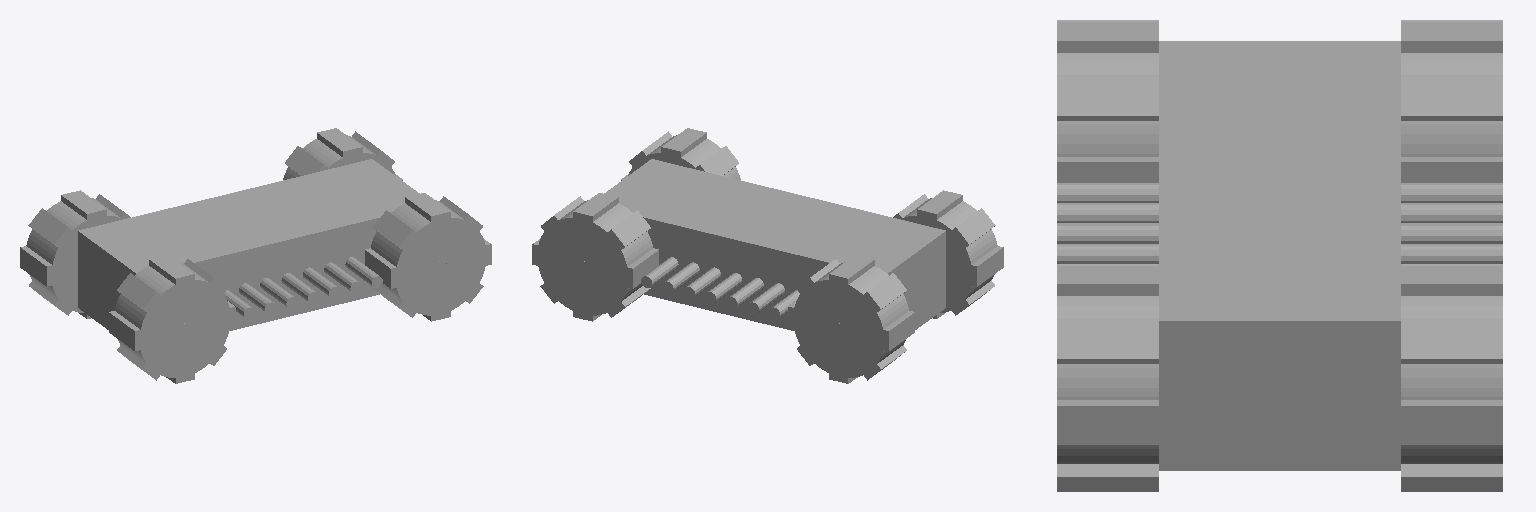
URDF robot description (prismatic_experiment):
<?xml version="1.0" ?>
<!-- =================================================================================== -->
<!-- |    This document was autogenerated by xacro from prismatic_experiment.xacro     | -->
<!-- |    EDITING THIS FILE BY HAND IS NOT RECOMMENDED                                 | -->
<!-- =================================================================================== -->
<robot name="prismatic_experiment">
  <material name="silver">
    <color rgba="0.700 0.700 0.700 1.000"/>
  </material>
  <transmission name="3_tran">
    <type>transmission_interface/SimpleTransmission</type>
    <joint name="3">
      <hardwareInterface>hardware_interface/EffortJointInterface</hardwareInterface>
    </joint>
    <actuator name="3_actr">
      <hardwareInterface>hardware_interface/EffortJointInterface</hardwareInterface>
      <mechanicalReduction>1</mechanicalReduction>
    </actuator>
  </transmission>
  <transmission name="6_tran">
    <type>transmission_interface/SimpleTransmission</type>
    <joint name="6">
      <hardwareInterface>hardware_interface/EffortJointInterface</hardwareInterface>
    </joint>
    <actuator name="6_actr">
      <hardwareInterface>hardware_interface/EffortJointInterface</hardwareInterface>
      <mechanicalReduction>1</mechanicalReduction>
    </actuator>
  </transmission>
  <transmission name="9_tran">
    <type>transmission_interface/SimpleTransmission</type>
    <joint name="9">
      <hardwareInterface>hardware_interface/EffortJointInterface</hardwareInterface>
    </joint>
    <actuator name="9_actr">
      <hardwareInterface>hardware_interface/EffortJointInterface</hardwareInterface>
      <mechanicalReduction>1</mechanicalReduction>
    </actuator>
  </transmission>
  <transmission name="12_tran">
    <type>transmission_interface/SimpleTransmission</type>
    <joint name="12">
      <hardwareInterface>hardware_interface/EffortJointInterface</hardwareInterface>
    </joint>
    <actuator name="12_actr">
      <hardwareInterface>hardware_interface/EffortJointInterface</hardwareInterface>
      <mechanicalReduction>1</mechanicalReduction>
    </actuator>
  </transmission>
  <gazebo>
    <plugin filename="libgazebo_ros_control.so" name="control"/>
  </gazebo>
  <gazebo reference="base_link">
    <material>Gazebo/Silver</material>
    <mu1>0.2</mu1>
    <mu2>0.2</mu2>
    <selfCollide>true</selfCollide>
    <gravity>true</gravity>
  </gazebo>
  <gazebo reference="gear_maint_1">
    <material>Gazebo/Silver</material>
    <mu1>0.2</mu1>
    <mu2>0.2</mu2>
    <selfCollide>true</selfCollide>
  </gazebo>
  <gazebo reference="gear_mainc_1">
    <material>Gazebo/Silver</material>
    <mu1>0.2</mu1>
    <mu2>0.2</mu2>
    <selfCollide>true</selfCollide>
  </gazebo>
  <gazebo reference="gear_circle_1">
    <material>Gazebo/Silver</material>
    <mu1>0.2</mu1>
    <mu2>0.2</mu2>
    <selfCollide>true</selfCollide>
  </gazebo>
  <gazebo reference="gear_mainc_2">
    <material>Gazebo/Silver</material>
    <mu1>0.2</mu1>
    <mu2>0.2</mu2>
    <selfCollide>true</selfCollide>
  </gazebo>
  <gazebo reference="gear_maint_2">
    <material>Gazebo/Silver</material>
    <mu1>0.2</mu1>
    <mu2>0.2</mu2>
    <selfCollide>true</selfCollide>
  </gazebo>
  <gazebo reference="gear_circle_2">
    <material>Gazebo/Silver</material>
    <mu1>0.2</mu1>
    <mu2>0.2</mu2>
    <selfCollide>true</selfCollide>
  </gazebo>
  <gazebo reference="gear_mainc_3">
    <material>Gazebo/Silver</material>
    <mu1>0.2</mu1>
    <mu2>0.2</mu2>
    <selfCollide>true</selfCollide>
  </gazebo>
  <gazebo reference="gear_maint_3">
    <material>Gazebo/Silver</material>
    <mu1>0.2</mu1>
    <mu2>0.2</mu2>
    <selfCollide>true</selfCollide>
  </gazebo>
  <gazebo reference="gear_circle_3">
    <material>Gazebo/Silver</material>
    <mu1>0.2</mu1>
    <mu2>0.2</mu2>
    <selfCollide>true</selfCollide>
  </gazebo>
  <gazebo reference="gear_mainc_4">
    <material>Gazebo/Silver</material>
    <mu1>0.2</mu1>
    <mu2>0.2</mu2>
    <selfCollide>true</selfCollide>
  </gazebo>
  <gazebo reference="gear_maint_4">
    <material>Gazebo/Silver</material>
    <mu1>0.2</mu1>
    <mu2>0.2</mu2>
    <selfCollide>true</selfCollide>
  </gazebo>
  <gazebo reference="gear_circle_4">
    <material>Gazebo/Silver</material>
    <mu1>0.2</mu1>
    <mu2>0.2</mu2>
    <selfCollide>true</selfCollide>
  </gazebo>
  <link name="base_link">
    <inertial>
      <origin rpy="0 0 0" xyz="0.2258879999999996 -4.3124927618332746e-17 -1.1859355095041503e-16"/>
      <mass value="13.497451271946687"/>
      <inertia ixx="0.069002" ixy="-0.0" ixz="-0.0" iyy="0.320506" iyz="-0.0" izz="0.353298"/>
    </inertial>
    <visual>
      <origin rpy="0 0 0" xyz="0 0 0"/>
      <geometry>
        <mesh filename="package://prismatic_experiment_description/meshes/base_link.stl" scale="0.001 0.001 0.001"/>
      </geometry>
      <material name="silver"/>
    </visual>
    <collision>
      <origin rpy="0 0 0" xyz="0 0 0"/>
      <geometry>
        <mesh filename="package://prismatic_experiment_description/meshes/base_link.stl" scale="0.001 0.001 0.001"/>
      </geometry>
    </collision>
  </link>
  <link name="gear_maint_1">
    <inertial>
      <origin rpy="0 0 0" xyz="6.137300737063533e-14 0.03999999999999998 -4.250930002814283e-17"/>
      <mass value="0.8558077419960403"/>
      <inertia ixx="0.001777" ixy="-0.0" ixz="-0.0" iyy="0.002641" iyz="-0.0" izz="0.001777"/>
    </inertial>
    <visual>
      <origin rpy="0 0 0" xyz="-0.0 0.175 -0.0"/>
      <geometry>
        <mesh filename="package://prismatic_experiment_description/meshes/gear_maint_1.stl" scale="0.001 0.001 0.001"/>
      </geometry>
      <material name="silver"/>
    </visual>
    <collision>
      <origin rpy="0 0 0" xyz="-0.0 0.175 -0.0"/>
      <geometry>
        <mesh filename="package://prismatic_experiment_description/meshes/gear_maint_1.stl" scale="0.001 0.001 0.001"/>
      </geometry>
    </collision>
  </link>
  <link name="gear_mainc_1">
    <inertial>
      <origin rpy="0 0 0" xyz="6.136239086296236e-14 0.03999999999999998 -1.0627325007035708e-17"/>
      <mass value="0.8558077419960404"/>
      <inertia ixx="0.001777" ixy="-0.0" ixz="0.0" iyy="0.002641" iyz="-0.0" izz="0.001777"/>
    </inertial>
    <visual>
      <origin rpy="0 0 0" xyz="-0.0 0.175 -0.0"/>
      <geometry>
        <mesh filename="package://prismatic_experiment_description/meshes/gear_mainc_1.stl" scale="0.001 0.001 0.001"/>
      </geometry>
      <material name="silver"/>
    </visual>
    <collision>
      <origin rpy="0 0 0" xyz="-0.0 0.175 -0.0"/>
      <geometry>
        <mesh filename="package://prismatic_experiment_description/meshes/gear_mainc_1.stl" scale="0.001 0.001 0.001"/>
      </geometry>
    </collision>
  </link>
  <link name="gear_circle_1">
    <inertial>
      <origin rpy="0 0 0" xyz="3.279642276972099e-14 0.03999999999999998 1.1349944714130247e-17"/>
      <mass value="1.60264164219345"/>
      <inertia ixx="0.00349" ixy="-0.0" ixz="0.0" iyy="0.00527" iyz="0.0" izz="0.00349"/>
    </inertial>
    <visual>
      <origin rpy="0 0 0" xyz="-0.0 0.175 -0.0"/>
      <geometry>
        <mesh filename="package://prismatic_experiment_description/meshes/gear_circle_1.stl" scale="0.001 0.001 0.001"/>
      </geometry>
      <material name="silver"/>
    </visual>
    <collision>
      <origin rpy="0 0 0" xyz="-0.0 0.175 -0.0"/>
      <geometry>
        <mesh filename="package://prismatic_experiment_description/meshes/gear_circle_1.stl" scale="0.001 0.001 0.001"/>
      </geometry>
    </collision>
  </link>
  <link name="gear_mainc_2">
    <inertial>
      <origin rpy="0 0 0" xyz="6.138260039145749e-14 -0.03999999999999998 1.0627325007035708e-17"/>
      <mass value="0.8558077419960404"/>
      <inertia ixx="0.001777" ixy="0.0" ixz="-0.0" iyy="0.002641" iyz="-0.0" izz="0.001777"/>
    </inertial>
    <visual>
      <origin rpy="0 0 0" xyz="-0.0 -0.175 -0.0"/>
      <geometry>
        <mesh filename="package://prismatic_experiment_description/meshes/gear_mainc_2.stl" scale="0.001 0.001 0.001"/>
      </geometry>
      <material name="silver"/>
    </visual>
    <collision>
      <origin rpy="0 0 0" xyz="-0.0 -0.175 -0.0"/>
      <geometry>
        <mesh filename="package://prismatic_experiment_description/meshes/gear_mainc_2.stl" scale="0.001 0.001 0.001"/>
      </geometry>
    </collision>
  </link>
  <link name="gear_maint_2">
    <inertial>
      <origin rpy="0 0 0" xyz="6.138433511493347e-14 -0.03999999999999998 4.250930002814283e-17"/>
      <mass value="0.8558077419960403"/>
      <inertia ixx="0.001777" ixy="0.0" ixz="0.0" iyy="0.002641" iyz="-0.0" izz="0.001777"/>
    </inertial>
    <visual>
      <origin rpy="0 0 0" xyz="-0.0 -0.175 -0.0"/>
      <geometry>
        <mesh filename="package://prismatic_experiment_description/meshes/gear_maint_2.stl" scale="0.001 0.001 0.001"/>
      </geometry>
      <material name="silver"/>
    </visual>
    <collision>
      <origin rpy="0 0 0" xyz="-0.0 -0.175 -0.0"/>
      <geometry>
        <mesh filename="package://prismatic_experiment_description/meshes/gear_maint_2.stl" scale="0.001 0.001 0.001"/>
      </geometry>
    </collision>
  </link>
  <link name="gear_circle_2">
    <inertial>
      <origin rpy="0 0 0" xyz="3.278999027912229e-14 -0.03999999999999998 -1.1349944714130247e-17"/>
      <mass value="1.60264164219345"/>
      <inertia ixx="0.00349" ixy="0.0" ixz="-0.0" iyy="0.00527" iyz="0.0" izz="0.00349"/>
    </inertial>
    <visual>
      <origin rpy="0 0 0" xyz="-0.0 -0.175 -0.0"/>
      <geometry>
        <mesh filename="package://prismatic_experiment_description/meshes/gear_circle_2.stl" scale="0.001 0.001 0.001"/>
      </geometry>
      <material name="silver"/>
    </visual>
    <collision>
      <origin rpy="0 0 0" xyz="-0.0 -0.175 -0.0"/>
      <geometry>
        <mesh filename="package://prismatic_experiment_description/meshes/gear_circle_2.stl" scale="0.001 0.001 0.001"/>
      </geometry>
    </collision>
  </link>
  <link name="gear_mainc_3">
    <inertial>
      <origin rpy="0 0 0" xyz="6.145084441300241e-14 0.03999999999999998 -7.296655933160238e-18"/>
      <mass value="0.8558077419960404"/>
      <inertia ixx="0.001777" ixy="-0.0" ixz="0.0" iyy="0.002641" iyz="0.0" izz="0.001777"/>
    </inertial>
    <visual>
      <origin rpy="0 0 0" xyz="-0.451776 0.175 -0.0"/>
      <geometry>
        <mesh filename="package://prismatic_experiment_description/meshes/gear_mainc_3.stl" scale="0.001 0.001 0.001"/>
      </geometry>
      <material name="silver"/>
    </visual>
    <collision>
      <origin rpy="0 0 0" xyz="-0.451776 0.175 -0.0"/>
      <geometry>
        <mesh filename="package://prismatic_experiment_description/meshes/gear_mainc_3.stl" scale="0.001 0.001 0.001"/>
      </geometry>
    </collision>
  </link>
  <link name="gear_maint_3">
    <inertial>
      <origin rpy="0 0 0" xyz="6.150635556423367e-14 0.03999999999999998 -3.9178630954267364e-17"/>
      <mass value="0.8558077419960403"/>
      <inertia ixx="0.001777" ixy="-0.0" ixz="-0.0" iyy="0.002641" iyz="0.0" izz="0.001777"/>
    </inertial>
    <visual>
      <origin rpy="0 0 0" xyz="-0.451776 0.175 -0.0"/>
      <geometry>
        <mesh filename="package://prismatic_experiment_description/meshes/gear_maint_3.stl" scale="0.001 0.001 0.001"/>
      </geometry>
      <material name="silver"/>
    </visual>
    <collision>
      <origin rpy="0 0 0" xyz="-0.451776 0.175 -0.0"/>
      <geometry>
        <mesh filename="package://prismatic_experiment_description/meshes/gear_maint_3.stl" scale="0.001 0.001 0.001"/>
      </geometry>
    </collision>
  </link>
  <link name="gear_circle_3">
    <inertial>
      <origin rpy="0 0 0" xyz="3.2807090377673376e-14 0.03999999999999998 1.4680613788005715e-17"/>
      <mass value="1.60264164219345"/>
      <inertia ixx="0.00349" ixy="-0.0" ixz="0.0" iyy="0.00527" iyz="0.0" izz="0.00349"/>
    </inertial>
    <visual>
      <origin rpy="0 0 0" xyz="-0.451776 0.175 -0.0"/>
      <geometry>
        <mesh filename="package://prismatic_experiment_description/meshes/gear_circle_3.stl" scale="0.001 0.001 0.001"/>
      </geometry>
      <material name="silver"/>
    </visual>
    <collision>
      <origin rpy="0 0 0" xyz="-0.451776 0.175 -0.0"/>
      <geometry>
        <mesh filename="package://prismatic_experiment_description/meshes/gear_circle_3.stl" scale="0.001 0.001 0.001"/>
      </geometry>
    </collision>
  </link>
  <link name="gear_mainc_4">
    <inertial>
      <origin rpy="0 0 0" xyz="6.145084441300241e-14 -0.03999999999999998 1.395799408091118e-17"/>
      <mass value="0.8558077419960404"/>
      <inertia ixx="0.001777" ixy="0.0" ixz="-0.0" iyy="0.002641" iyz="0.0" izz="0.001777"/>
    </inertial>
    <visual>
      <origin rpy="0 0 0" xyz="-0.451776 -0.175 -0.0"/>
      <geometry>
        <mesh filename="package://prismatic_experiment_description/meshes/gear_mainc_4.stl" scale="0.001 0.001 0.001"/>
      </geometry>
      <material name="silver"/>
    </visual>
    <collision>
      <origin rpy="0 0 0" xyz="-0.451776 -0.175 -0.0"/>
      <geometry>
        <mesh filename="package://prismatic_experiment_description/meshes/gear_mainc_4.stl" scale="0.001 0.001 0.001"/>
      </geometry>
    </collision>
  </link>
  <link name="gear_maint_4">
    <inertial>
      <origin rpy="0 0 0" xyz="6.150635556423367e-14 -0.03999999999999998 4.583996910201829e-17"/>
      <mass value="0.8558077419960403"/>
      <inertia ixx="0.001777" ixy="0.0" ixz="0.0" iyy="0.002641" iyz="-0.0" izz="0.001777"/>
    </inertial>
    <visual>
      <origin rpy="0 0 0" xyz="-0.451776 -0.175 -0.0"/>
      <geometry>
        <mesh filename="package://prismatic_experiment_description/meshes/gear_maint_4.stl" scale="0.001 0.001 0.001"/>
      </geometry>
      <material name="silver"/>
    </visual>
    <collision>
      <origin rpy="0 0 0" xyz="-0.451776 -0.175 -0.0"/>
      <geometry>
        <mesh filename="package://prismatic_experiment_description/meshes/gear_maint_4.stl" scale="0.001 0.001 0.001"/>
      </geometry>
    </collision>
  </link>
  <link name="gear_circle_4">
    <inertial>
      <origin rpy="0 0 0" xyz="3.2807090377673376e-14 -0.03999999999999998 -8.019275640254776e-18"/>
      <mass value="1.60264164219345"/>
      <inertia ixx="0.00349" ixy="0.0" ixz="-0.0" iyy="0.00527" iyz="0.0" izz="0.00349"/>
    </inertial>
    <visual>
      <origin rpy="0 0 0" xyz="-0.451776 -0.175 -0.0"/>
      <geometry>
        <mesh filename="package://prismatic_experiment_description/meshes/gear_circle_4.stl" scale="0.001 0.001 0.001"/>
      </geometry>
      <material name="silver"/>
    </visual>
    <collision>
      <origin rpy="0 0 0" xyz="-0.451776 -0.175 -0.0"/>
      <geometry>
        <mesh filename="package://prismatic_experiment_description/meshes/gear_circle_4.stl" scale="0.001 0.001 0.001"/>
      </geometry>
    </collision>
  </link>
  <joint name="1" type="fixed">
    <origin rpy="0 0 0" xyz="0.0 0.0 0.0"/>
    <parent link="gear_circle_1"/>
    <child link="gear_maint_1"/>
  </joint>
  <joint name="2" type="fixed">
    <origin rpy="0 0 0" xyz="0.0 0.0 0.0"/>
    <parent link="gear_circle_1"/>
    <child link="gear_mainc_1"/>
  </joint>
  <joint name="3" type="prismatic">
    <origin rpy="0 0 0" xyz="0.0 -0.175 0.0"/>
    <parent link="base_link"/>
    <child link="gear_circle_1"/>
    <axis xyz="1.0 0.0 0.0"/>
    <limit effort="100" lower="0.0" upper="0.45" velocity="100"/>
  </joint>
  <joint name="4" type="fixed">
    <origin rpy="0 0 0" xyz="0.0 0.0 0.0"/>
    <parent link="gear_circle_2"/>
    <child link="gear_mainc_2"/>
  </joint>
  <joint name="5" type="fixed">
    <origin rpy="0 0 0" xyz="0.0 0.0 0.0"/>
    <parent link="gear_circle_2"/>
    <child link="gear_maint_2"/>
  </joint>
  <joint name="6" type="prismatic">
    <origin rpy="0 0 0" xyz="0.0 0.175 0.0"/>
    <parent link="base_link"/>
    <child link="gear_circle_2"/>
    <axis xyz="1.0 0.0 0.0"/>
    <limit effort="100" lower="0.0" upper="0.45" velocity="100"/>
  </joint>
  <joint name="7" type="fixed">
    <origin rpy="0 0 0" xyz="0.0 0.0 0.0"/>
    <parent link="gear_circle_3"/>
    <child link="gear_mainc_3"/>
  </joint>
  <joint name="8" type="fixed">
    <origin rpy="0 0 0" xyz="0.0 0.0 0.0"/>
    <parent link="gear_circle_3"/>
    <child link="gear_maint_3"/>
  </joint>
  <joint name="9" type="prismatic">
    <origin rpy="0 0 0" xyz="0.451776 -0.175 0.0"/>
    <parent link="base_link"/>
    <child link="gear_circle_3"/>
    <axis xyz="1.0 0.0 0.0"/>
    <limit effort="100" lower="0.0" upper="0.45" velocity="100"/>
  </joint>
  <joint name="10" type="fixed">
    <origin rpy="0 0 0" xyz="0.0 0.0 0.0"/>
    <parent link="gear_circle_4"/>
    <child link="gear_mainc_4"/>
  </joint>
  <joint name="11" type="fixed">
    <origin rpy="0 0 0" xyz="0.0 0.0 0.0"/>
    <parent link="gear_circle_4"/>
    <child link="gear_maint_4"/>
  </joint>
  <joint name="12" type="prismatic">
    <origin rpy="0 0 0" xyz="0.451776 0.175 0.0"/>
    <parent link="base_link"/>
    <child link="gear_circle_4"/>
    <axis xyz="1.0 0.0 0.0"/>
    <limit effort="100" lower="0.0" upper="0.45" velocity="100"/>
  </joint>
</robot>

--- Facts derived from the render (not from the file) ---
3 views of the same robot in one strip: view 1: azimuth 30°, elevation 25°; view 2: azimuth 150°, elevation 25°; view 3: azimuth 270°, elevation 25° (orthographic).
Model prismatic_experiment with 13 links and 12 joints (4 prismatic, 8 fixed), rooted at base_link, posed every joint at zero.
Visible links, largest first — view 1: base_link, gear_circle_3, gear_maint_1, gear_circle_1, gear_mainc_1, gear_mainc_3, gear_maint_3, gear_circle_2, gear_mainc_2, gear_maint_2, gear_mainc_4, gear_circle_4 (+1 smaller); view 2: base_link, gear_circle_4, gear_maint_2, gear_mainc_4, gear_mainc_2, gear_circle_2, gear_maint_4, gear_circle_1, gear_mainc_1, gear_maint_1, gear_mainc_3, gear_circle_3 (+1 smaller); view 3: base_link, gear_circle_3, gear_circle_4, gear_mainc_3, gear_mainc_4, gear_maint_3, gear_maint_4, gear_circle_1, gear_circle_2, gear_maint_1, gear_maint_2, gear_mainc_1 (+1 smaller).
Link boxes in pixels (<box>): base_link: <box>78,159,446,334</box>; gear_circle_3: <box>371,200,486,315</box>; gear_maint_1: <box>109,255,235,383</box>; gear_circle_1: <box>115,262,230,377</box>; gear_mainc_1: <box>117,259,226,380</box>; gear_mainc_3: <box>373,196,483,317</box>; gear_maint_3: <box>365,193,491,321</box>; gear_circle_2: <box>26,198,120,312</box>; gear_mainc_2: <box>28,194,130,315</box>; gear_maint_2: <box>20,190,106,318</box>; gear_mainc_4: <box>285,131,394,175</box>; gear_circle_4: <box>283,135,395,179</box>; base_link: <box>577,159,945,334</box>; gear_circle_4: <box>537,200,652,315</box>; gear_maint_2: <box>788,255,914,383</box>; gear_mainc_4: <box>540,196,650,317</box>; gear_mainc_2: <box>797,259,906,380</box>; gear_circle_2: <box>793,262,908,377</box>; gear_maint_4: <box>532,193,658,321</box>; gear_circle_1: <box>903,198,997,312</box>; gear_mainc_1: <box>893,194,995,315</box>; gear_maint_1: <box>917,190,1003,318</box>; gear_mainc_3: <box>629,131,738,175</box>; gear_circle_3: <box>628,135,740,179</box>; base_link: <box>1057,41,1502,470</box>; gear_circle_3: <box>1057,296,1158,463</box>; gear_circle_4: <box>1401,296,1502,463</box>; gear_mainc_3: <box>1057,264,1158,491</box>; gear_mainc_4: <box>1401,264,1502,491</box>; gear_maint_3: <box>1057,266,1158,444</box>; gear_maint_4: <box>1401,266,1502,444</box>; gear_circle_1: <box>1057,53,1158,156</box>; gear_circle_2: <box>1401,53,1502,156</box>; gear_maint_1: <box>1057,22,1158,182</box>; gear_maint_2: <box>1401,22,1502,182</box>; gear_mainc_1: <box>1057,20,1158,120</box>.
Size in the robot's own frame: 0.6295 by 0.35 by 0.1777 metres.
13 mesh visuals loaded from 13 distinct referenced files (13 binary STL).
